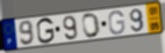9: (19, 20, 36, 47), (62, 15, 79, 41), (129, 7, 146, 33)
G: (35, 16, 56, 45), (107, 9, 126, 36)
O: (81, 12, 101, 40)
